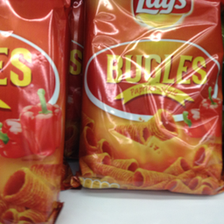chips: (81, 1, 223, 198), (1, 1, 68, 222)
